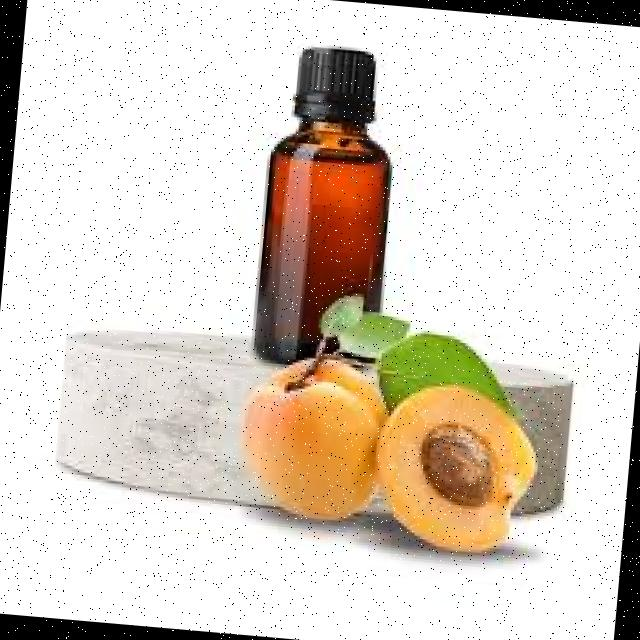Cekirdek: (426, 424, 491, 504)
Kayisi: (247, 375, 378, 517)
Yaprak: (377, 333, 513, 413)
